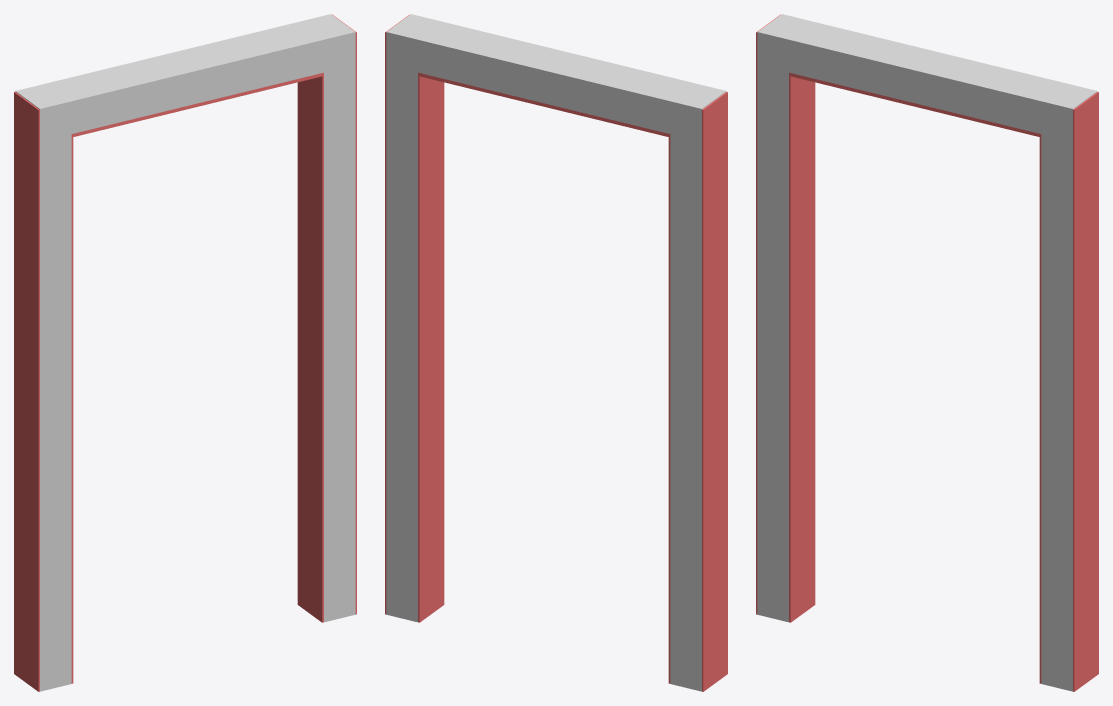
Rendered from prop_door_frame_01.glb.
3 renders of one model, left to right at view 1: azimuth 30°, elevation 25°; view 2: azimuth 150°, elevation 25°; view 3: azimuth 330°, elevation 25°, orthographic.
Parts seen in each view (by area): view 1: prop_door_frame_01, brush_box.002, brush_box.003, brush_box.004; view 2: prop_door_frame_01, brush_box.002, brush_box.003, brush_box.004; view 3: prop_door_frame_01, brush_box.003, brush_box.002, brush_box.004.
Part boxes in pixels (x1,y1,x2,y2): prop_door_frame_01: (15,14,355,691); brush_box.002: (14,128,73,691); brush_box.003: (297,68,356,622); brush_box.004: (14,14,356,145); prop_door_frame_01: (386,14,726,691); brush_box.002: (668,128,727,691); brush_box.003: (385,68,444,622); brush_box.004: (385,14,727,145); prop_door_frame_01: (757,14,1097,691); brush_box.003: (1039,128,1098,691); brush_box.002: (756,68,815,622); brush_box.004: (756,14,1098,145).
Bounding box in the file's own units: 1.38 × 2.42 × 0.1855.
